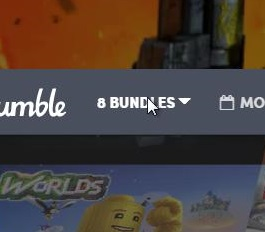cursor: (145, 95, 159, 117)
